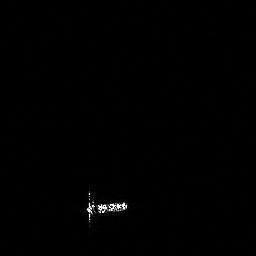ship: (81, 185, 130, 227)
